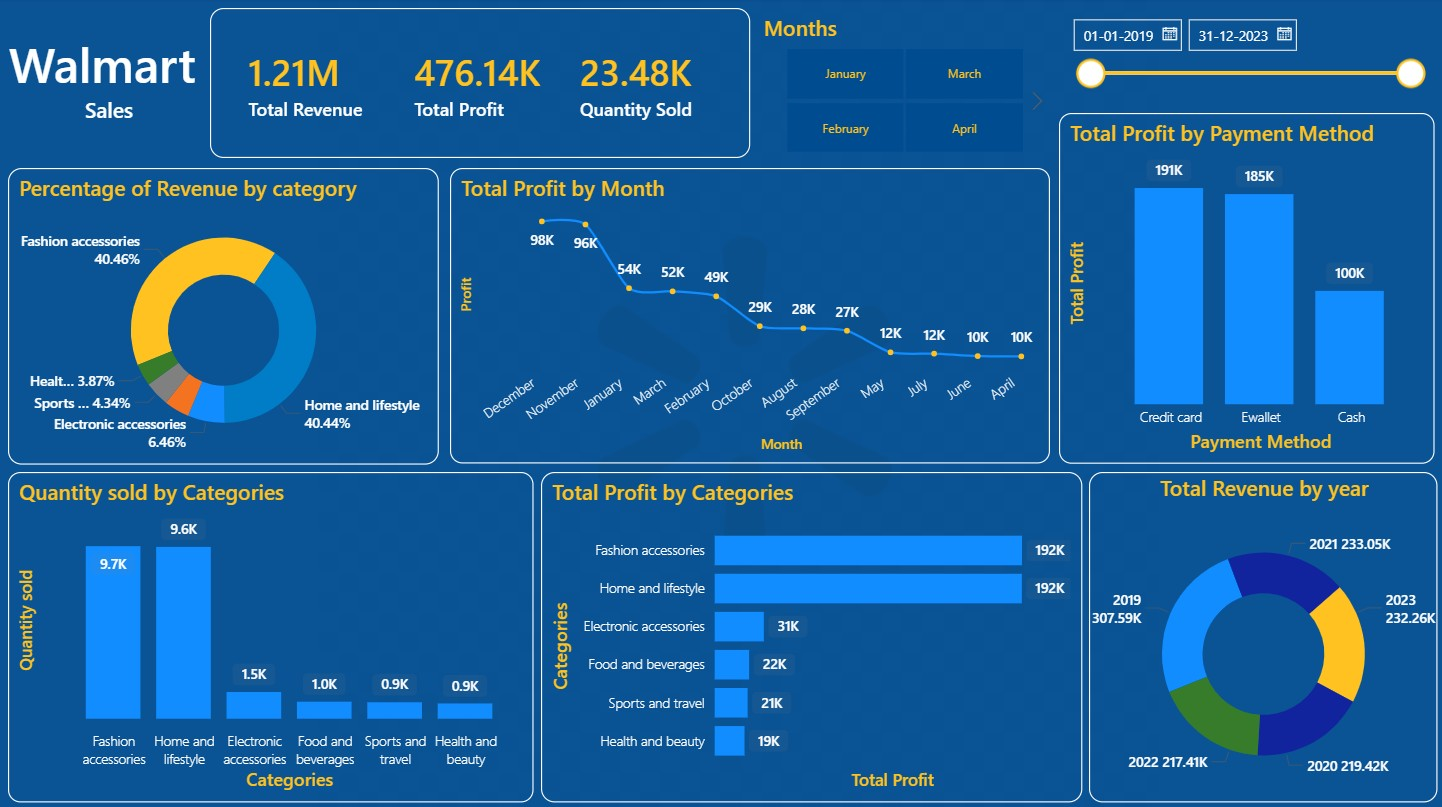

The dashboard page shown, as its layout file describes it:
{"tool":"powerbi","page":{"name":"Page 1","canvas":[1280,720],"ordinal":0},"visuals":[{"type":"cardVisual","fields":{"Data":["walmart_project walmart_sales.total revenue","walmart_project walmart_sales.totalprofit","walmart_project walmart_sales.Quantity sold"]},"box":[186.2,8.9,478.8,133],"z":0},{"type":"lineChart","title":"Total Profit by Month","fields":{"Y":["walmart_project walmart_sales.totalprofit"],"Category":["walmart_project walmart_sales.month_name"]},"box":[399,150.7,532,262.5],"z":1000},{"type":"clusteredBarChart","fields":{"Y":["walmart_project walmart_sales.totalprofit"],"Category":["walmart_project walmart_sales.category"]},"box":[479.5,420.2,479.5,292.8],"z":2000},{"type":"donutChart","title":"Total Revenue by year","fields":{"Category":["walmart_project walmart_sales.year"],"Y":["walmart_project walmart_sales.total revenue"]},"box":[965.8,420.2,309.3,292.8],"z":3000},{"type":"columnChart","fields":{"Category":["walmart_project walmart_sales.category"],"Y":["walmart_project walmart_sales.Quantity sold"]},"box":[6.8,420.2,465.9,292.8],"z":4000},{"type":"slicer","fields":{"Values":["walmart_project walmart_sales.date"]},"box":[939,8.9,333.4,93.1],"z":5000},{"type":"donutChart","title":"Percentage of Revenue by category","fields":{"Category":["walmart_project walmart_sales.category"],"Y":["walmart_project walmart_sales.total revenue"]},"box":[6.8,150.8,382.2,262.6],"z":6000},{"type":"clusteredColumnChart","fields":{"Category":["walmart_project walmart_sales.payment_method"],"Y":["Sum(walmart_project walmart_sales.profit)"]},"box":[939,102,333.4,311.2],"z":7000},{"type":"textbox","box":[7.1,12.4,179.1,125.9],"z":8000},{"type":"slicer","title":"Months","fields":{"Values":["walmart_project walmart_sales.month_name"]},"box":[672.1,13.3,258.9,130.3],"z":9000}]}

Visuals, with their boxes in screenshot pixels (x1, y1, x2, y2), scaled from the page's 1280x720 canvas onto the 1442x807 screenshot:
cardVisual - walmart_project walmart_sales.total revenue x walmart_project walmart_sales.totalprofit: BBox(210, 10, 749, 159)
"Total Profit by Month" lineChart: BBox(449, 169, 1049, 463)
clusteredBarChart - walmart_project walmart_sales.totalprofit x walmart_project walmart_sales.category: BBox(540, 471, 1080, 799)
"Total Revenue by year" donutChart: BBox(1088, 471, 1436, 799)
columnChart - walmart_project walmart_sales.category x walmart_project walmart_sales.Quantity sold: BBox(8, 471, 533, 799)
slicer - walmart_project walmart_sales.date: BBox(1058, 10, 1433, 114)
"Percentage of Revenue by category" donutChart: BBox(8, 169, 438, 463)
clusteredColumnChart - walmart_project walmart_sales.payment_method x Sum(walmart_project walmart_sales.profit): BBox(1058, 114, 1433, 463)
textbox: BBox(8, 14, 210, 155)
"Months" slicer: BBox(757, 15, 1049, 161)
